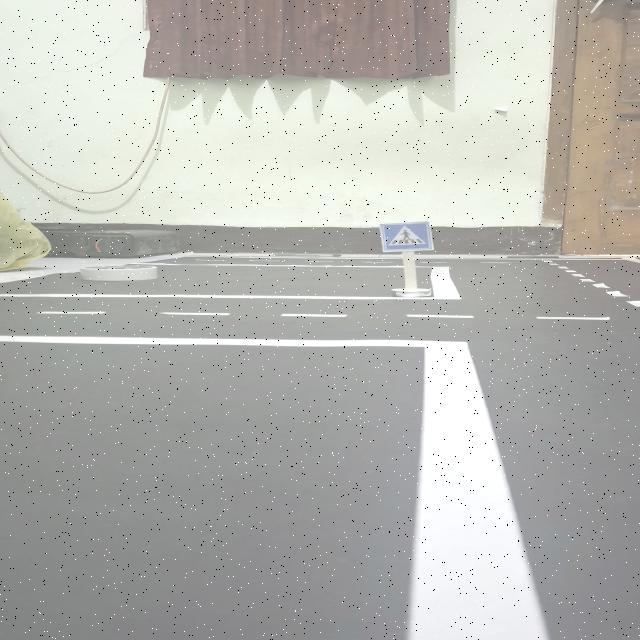Rambu Penyebrangan: (380, 222, 431, 250)
